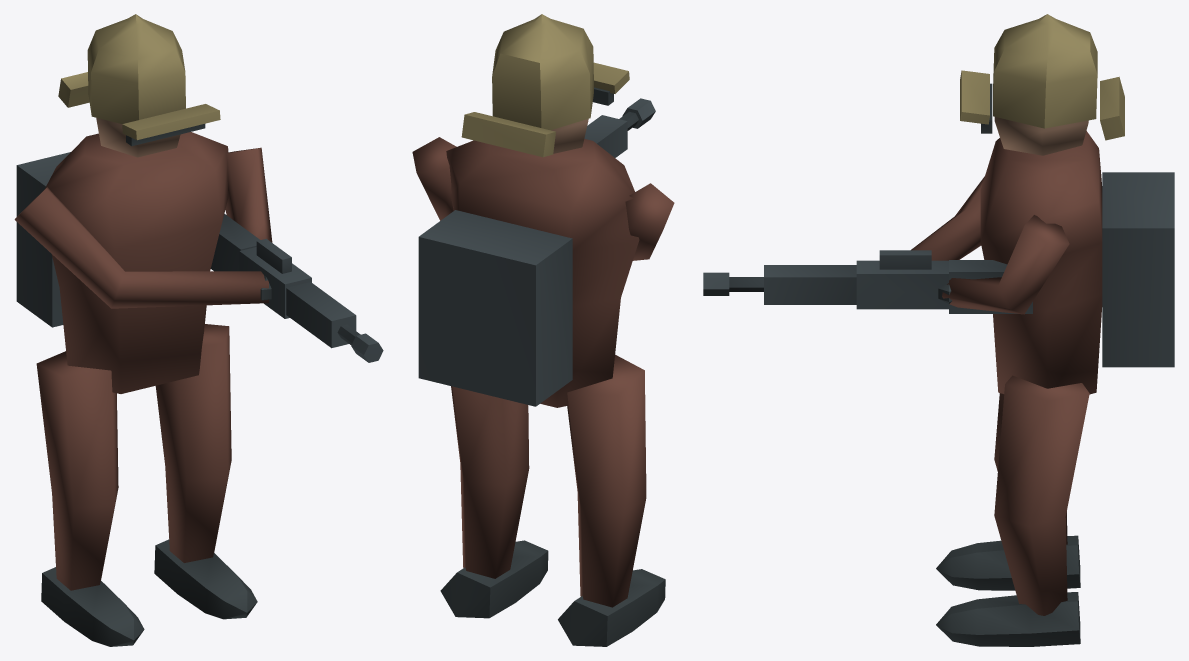
The model's file is rifleman.glb.
3 renders of one model, left to right at view 1: azimuth 30°, elevation 25°; view 2: azimuth 150°, elevation 25°; view 3: azimuth 270°, elevation 25°, orthographic. The views are drawn at different scales.
Visible parts, largest first — view 1: Uniform, LeftLeg limb, RightLeg limb, Weapon, Helmet, LeftLeg boot, RightLeg boot, Skin, Gear; view 2: Weapon, Uniform, LeftLeg limb, Helmet, RightLeg limb, LeftLeg boot, RightLeg boot, Skin; view 3: Uniform, Weapon, RightLeg limb, Helmet, RightLeg boot, LeftLeg boot, Skin.
Part boxes in pixels (x1,y1,x2,y2): Uniform: (14, 132, 272, 393); LeftLeg limb: (36, 351, 118, 590); RightLeg limb: (155, 324, 231, 562); Weapon: (16, 152, 383, 362); Helmet: (58, 14, 220, 140); LeftLeg boot: (41, 567, 144, 646); RightLeg boot: (154, 539, 257, 619); Skin: (96, 118, 180, 157); Gear: (126, 124, 271, 300); Weapon: (418, 98, 655, 406); Uniform: (412, 137, 674, 407); LeftLeg limb: (567, 354, 646, 607); Helmet: (461, 14, 629, 157); RightLeg limb: (451, 386, 529, 578); LeftLeg boot: (558, 569, 665, 646); RightLeg boot: (440, 540, 548, 618); Skin: (551, 119, 588, 153); Uniform: (911, 131, 1102, 394); Weapon: (703, 172, 1174, 367); RightLeg limb: (994, 375, 1089, 615); Helmet: (960, 14, 1124, 140); RightLeg boot: (936, 592, 1080, 646); LeftLeg boot: (936, 535, 1080, 590); Skin: (994, 117, 1088, 155).
Bounding box in the file's own units: 0.9943 × 2.29 × 1.63.
